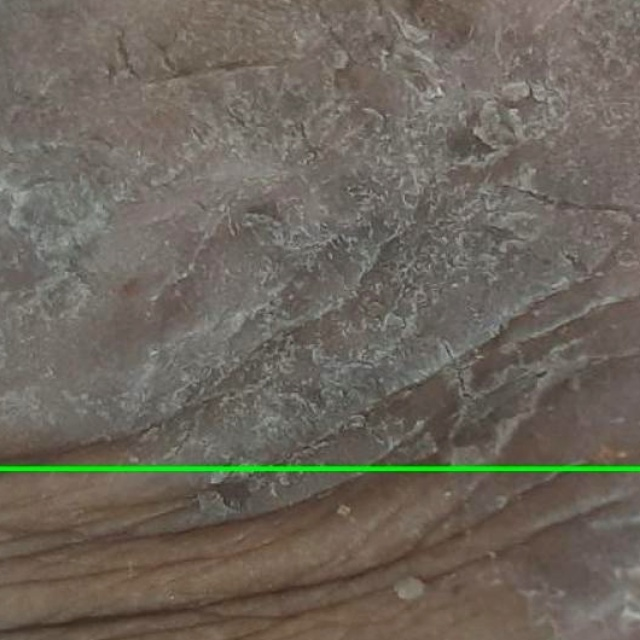Eczema: (0, 0, 639, 467)
